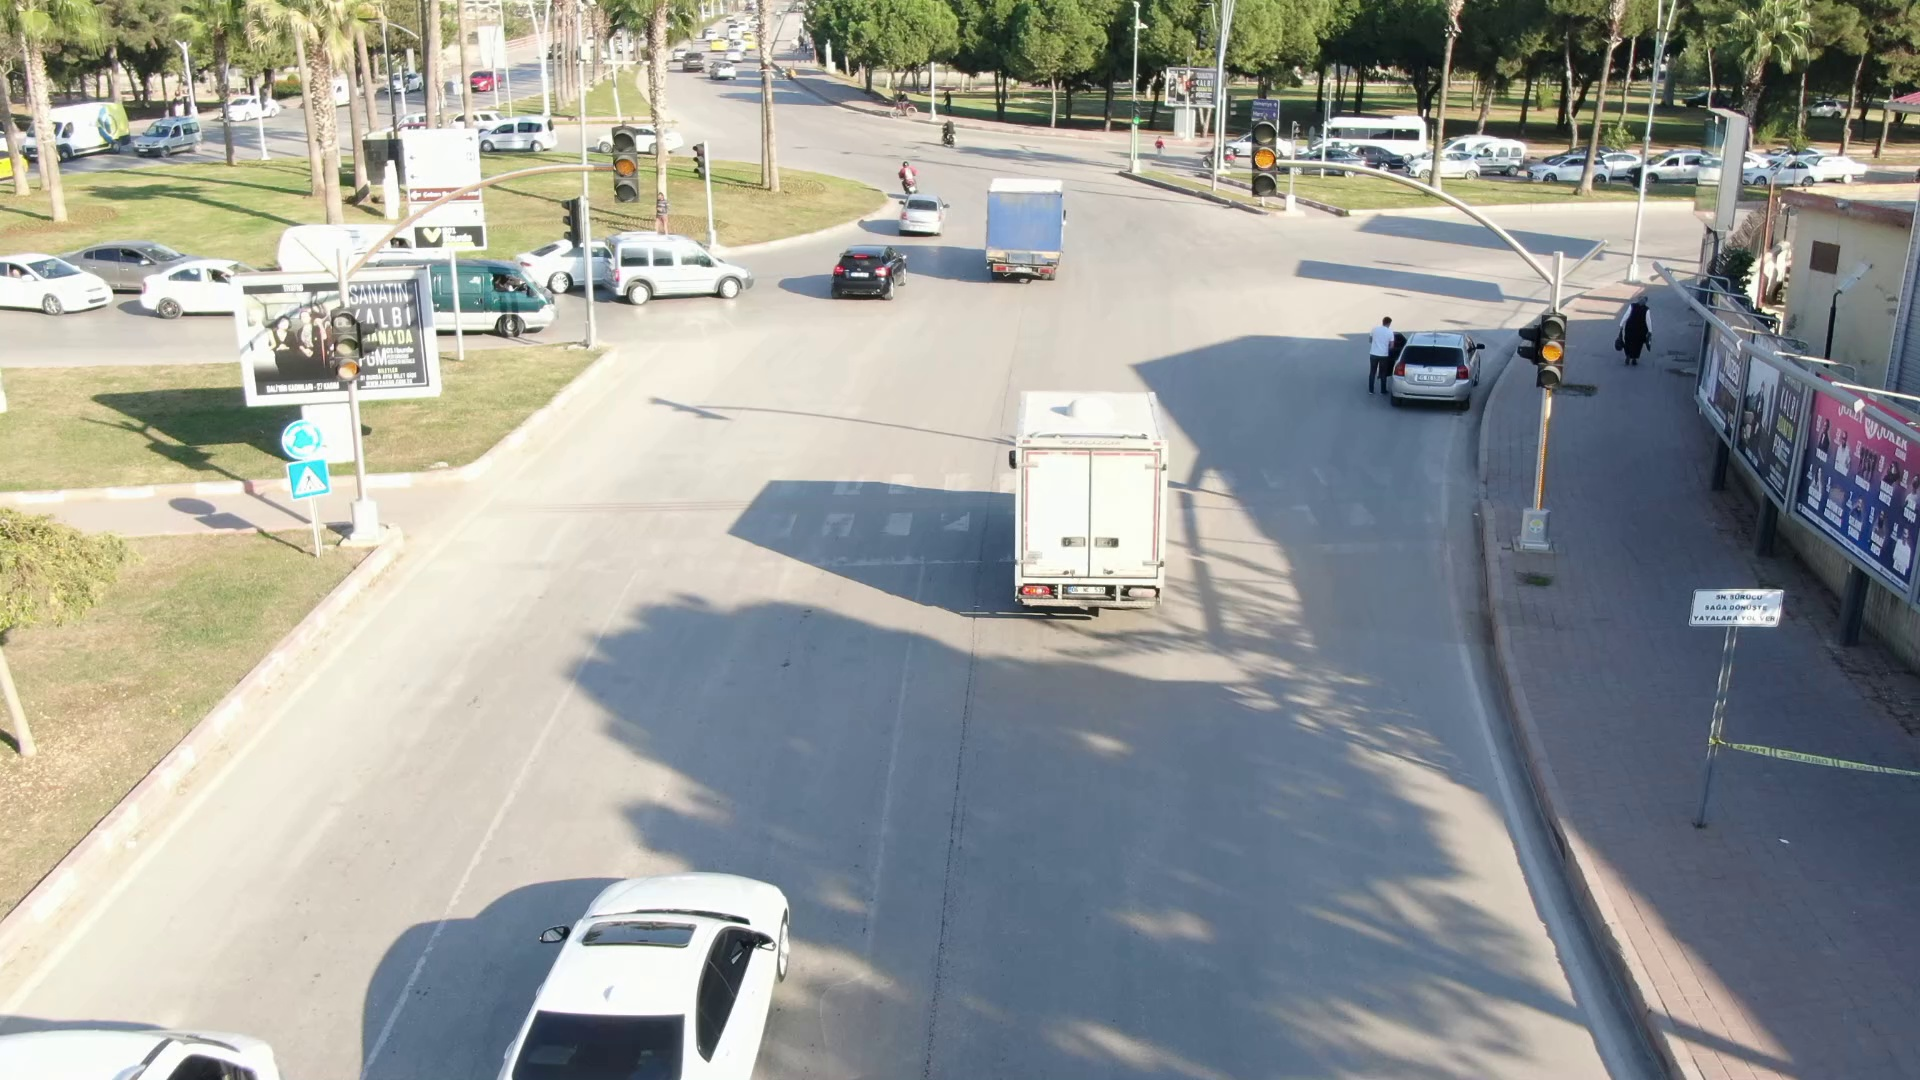car: (456, 834, 855, 1080), (992, 379, 1200, 629), (599, 227, 762, 319), (969, 178, 1094, 286), (1393, 323, 1500, 416), (825, 238, 926, 307), (887, 188, 953, 236)
person: (1613, 287, 1656, 371), (1364, 308, 1398, 401)
